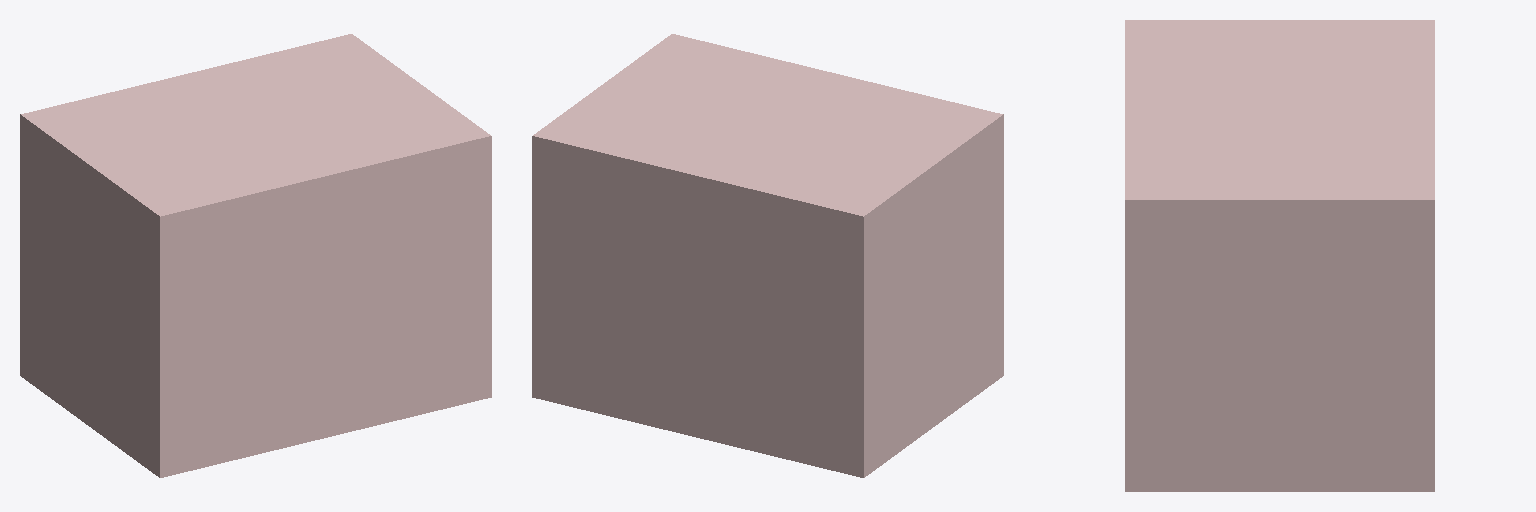
robot.urdf — box.urdf:
<?xml version="1.0" ?>
<robot name="box.urdf">
  <link name="baseLink">
    <contact>
      <lateral_friction value="1.0"/>
      <rolling_friction value="0.0001"/>
      <inertia_scaling value="3.0"/>
    </contact>
    <inertial>
      <origin rpy="0 0 0" xyz="0 0 0"/>
       <mass value="0.1"/>
       <inertia ixx="1" ixy="0" ixz="0" iyy="1" iyz="0" izz="1"/>
    </inertial>
    <visual>
      <origin rpy="0 0 0" xyz="0 0 0"/>
      <geometry>
        <!-- <box size="0.322 0.235 0.243"/> -->
        <mesh filename="box/box.obj" scale="0.322 0.235 0.243"/>
      </geometry>
      <material name="white">
        <color rgba="0.9 0.8 0.8 1"/>
      </material>
    </visual>
    <collision>
      <origin rpy="0 0 0" xyz="0 0 0"/>
      <geometry>
        <mesh filename="box/box.obj" scale="0.322 0.235 0.243"/>
	 	    <!-- <box size="0.322 0.235 0.243"/> -->
      </geometry>
    </collision>
  </link>
</robot>

--- What the picture shows (computed from the rendered views, not written in the file) ---
Views: 3 orthographic renders of the robot side by side, from view 1: azimuth 30°, elevation 25°; view 2: azimuth 150°, elevation 25°; view 3: azimuth 270°, elevation 25°.
Model box.urdf with 1 links and 0 joints (none), rooted at baseLink, posed every joint at zero.
Visible links, largest first — view 1: baseLink; view 2: baseLink; view 3: baseLink.
Boxes of the visible links, x1,y1,x2,y2 form: baseLink: [20, 34, 491, 477]; baseLink: [532, 34, 1003, 477]; baseLink: [1125, 20, 1434, 491].
Size in the robot's own frame: 0.322 by 0.235 by 0.243 metres.
1 mesh visuals loaded from 1 distinct referenced files (1 OBJ).
